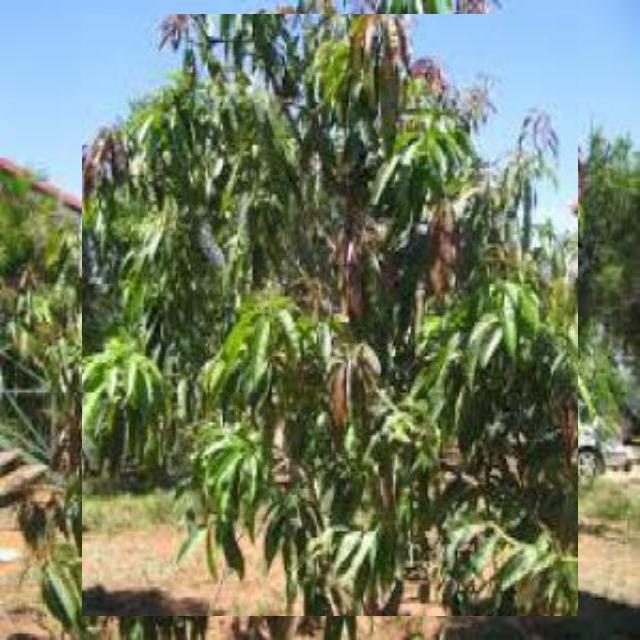tree: (82, 14, 578, 616)
